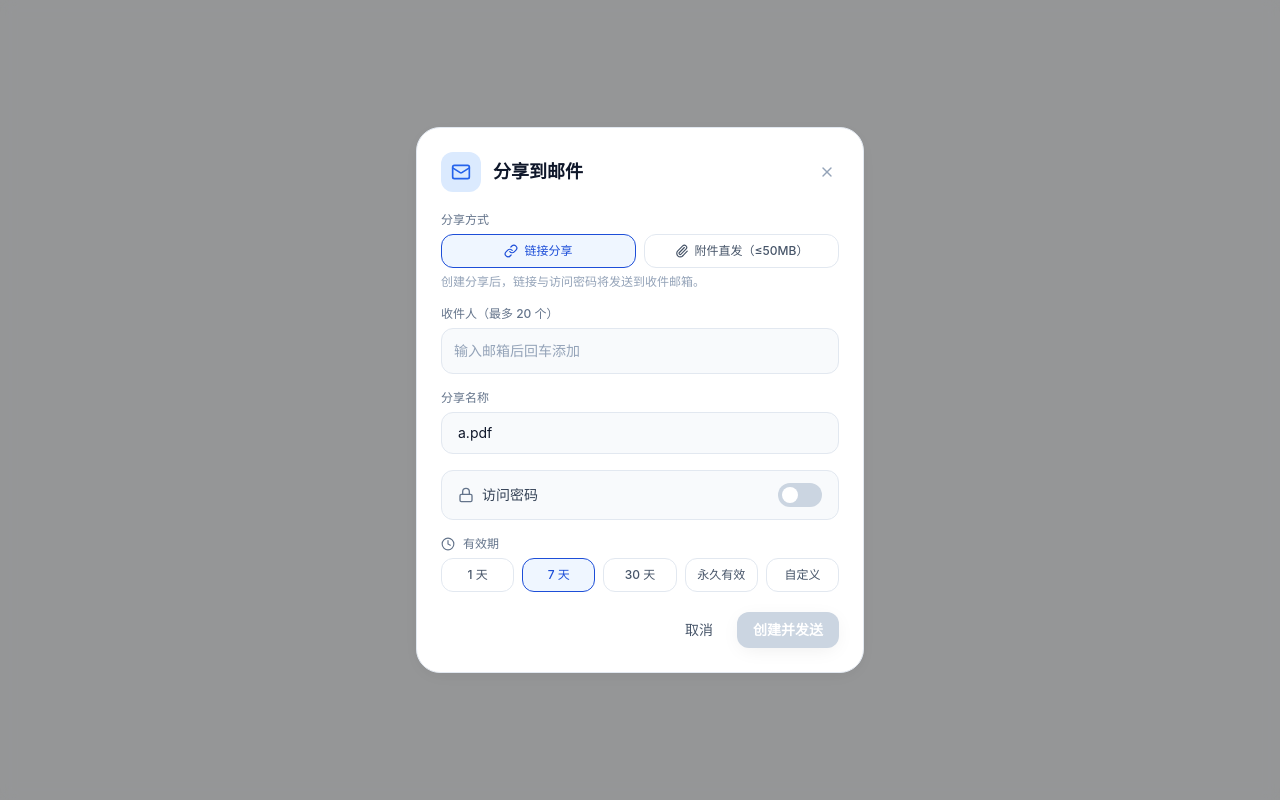
Test case: EmailShareModal › enables attachment mode and shows kindle hint for file-only selection
The image size is (1280, 800).
Click the button "附件直发（≤50MB）": [742, 251] box [644,234,839,268]
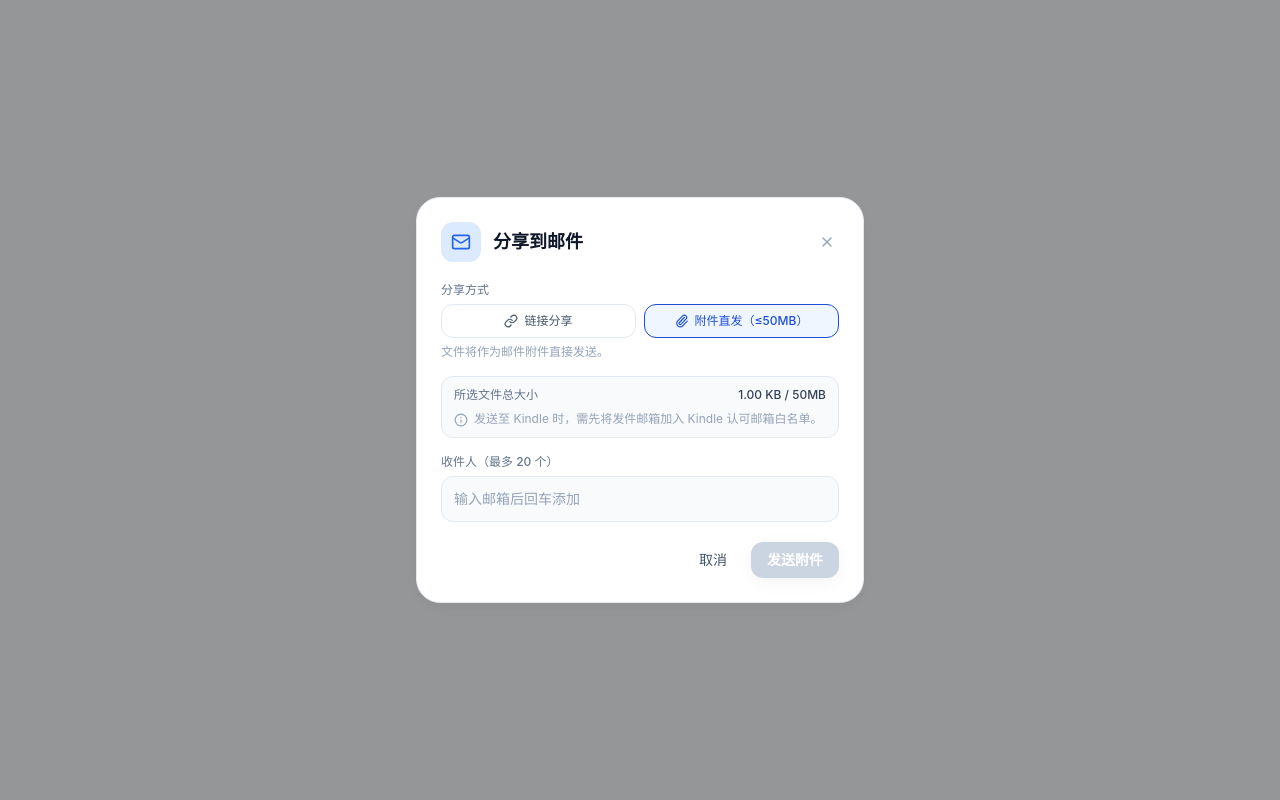
Expected: the text "链接分享" is shown, [441,304,636,338]
Result: the text "需先将发件邮箱加入 Kindle 认可邮箱白名单" is shown at [474,411,822,426]
Result: the text "1.00 KB / 50MB" is shown at [738,387,826,403]
